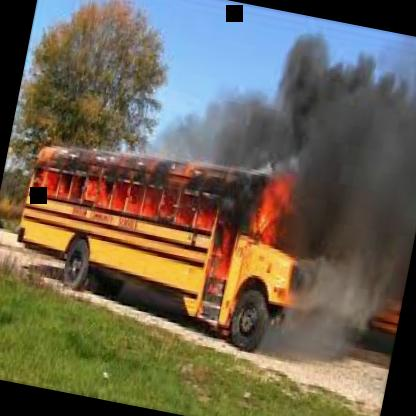fire: (13, 141, 336, 348)
